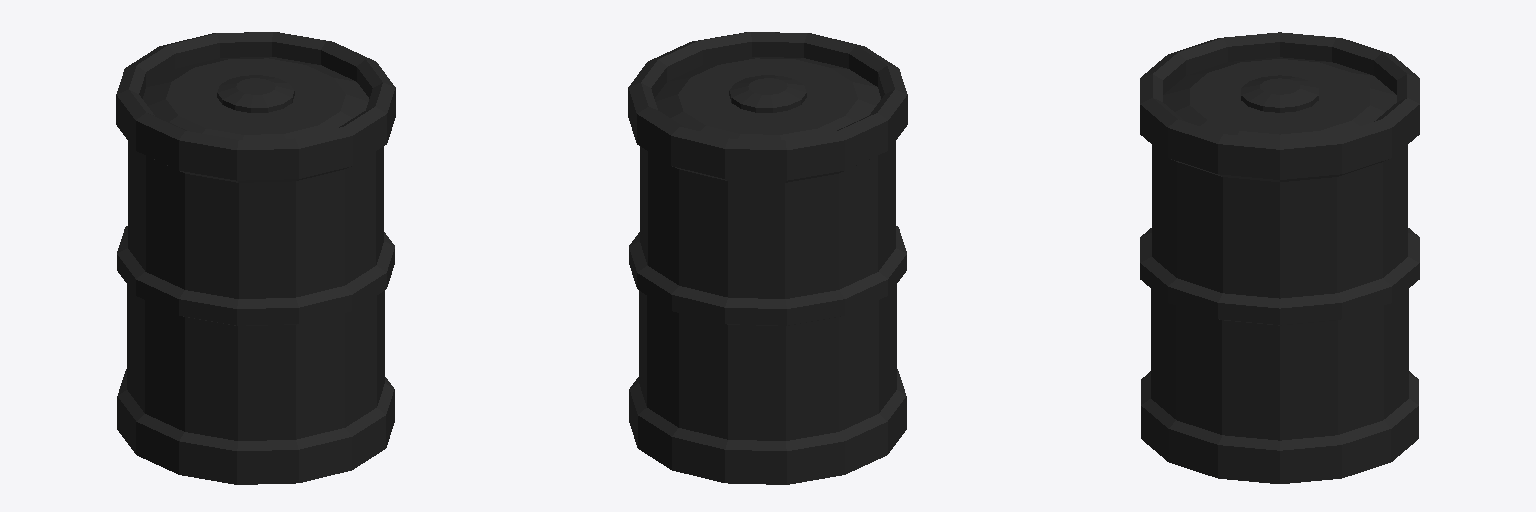
Rendered from Barrel_Small.obj.
3 renders of one model, left to right at view 1: azimuth 30°, elevation 25°; view 2: azimuth 150°, elevation 25°; view 3: azimuth 270°, elevation 25°, orthographic.
Parts seen in each view (by area): view 1: Barrel_Small.obj; view 2: Barrel_Small.obj; view 3: Barrel_Small.obj.
Part boxes in pixels (left/top/right/bottom): Barrel_Small.obj: left=116, top=32, right=395, bottom=484; Barrel_Small.obj: left=628, top=32, right=907, bottom=484; Barrel_Small.obj: left=1140, top=32, right=1419, bottom=483.
Size of the model in its own units: 0.7494 by 1.01 by 0.7541.